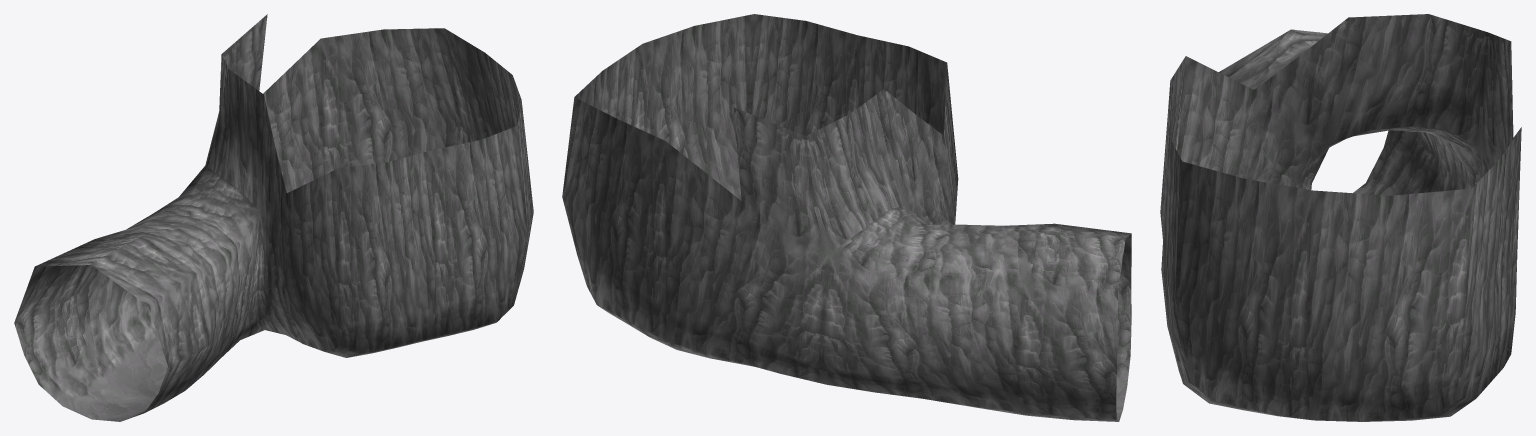
Rendered from SWORDLIGHT20_PS-AREA02-03TRANS_05.fbx.
3 views of the same model, side by side, from view 1: azimuth 30°, elevation 25°; view 2: azimuth 150°, elevation 25°; view 3: azimuth 270°, elevation 25° (orthographic). The views are drawn at different scales.
Visible parts, largest first — view 1: SWORDLIGHT20_PS-AREA02-03TRANS_05; view 2: SWORDLIGHT20_PS-AREA02-03TRANS_05; view 3: SWORDLIGHT20_PS-AREA02-03TRANS_05.
Part boxes in pixels (x1,y1,x2,y2): SWORDLIGHT20_PS-AREA02-03TRANS_05: (14,14,533,421); SWORDLIGHT20_PS-AREA02-03TRANS_05: (562,14,1131,421); SWORDLIGHT20_PS-AREA02-03TRANS_05: (1160,14,1521,421).
Bounding box in the file's own units: 256790 × 140522 × 135689.
Materials: 4 (4 with a texture image).
